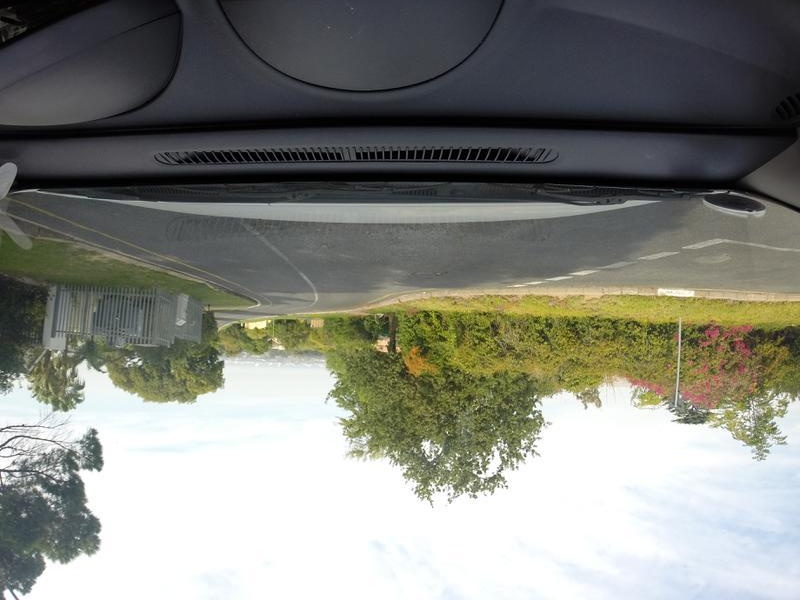pothole: (411, 271, 442, 279)
